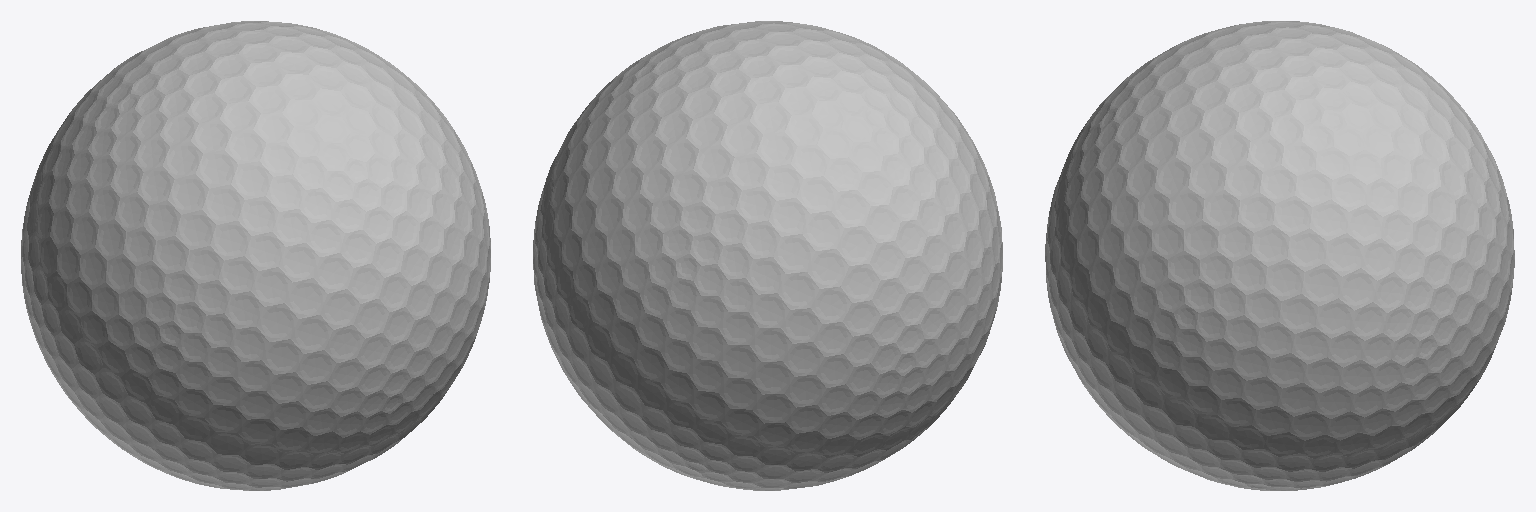
3 renders of one model, left to right at view 1: azimuth 30°, elevation 25°; view 2: azimuth 150°, elevation 25°; view 3: azimuth 270°, elevation 25°, orthographic.
Parts seen in each view (by area): view 1: golf_ball; view 2: golf_ball; view 3: golf_ball.
Boxes of the visible parts, x1=… form: golf_ball: x1=21, y1=21, x2=490, y2=490; golf_ball: x1=533, y1=21, x2=1002, y2=490; golf_ball: x1=1045, y1=21, x2=1514, y2=490.
Bounding box in the file's own units: 2.53 × 2.53 × 2.53.
1 materials, 1 textured.